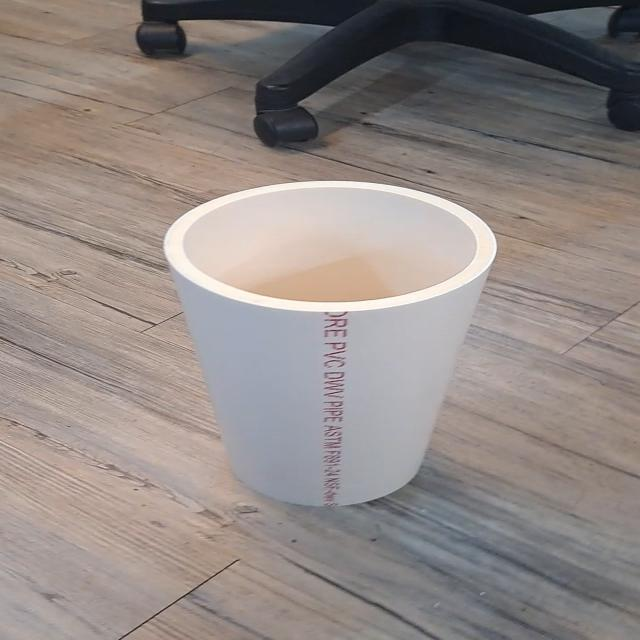CORAL: (113, 169, 559, 518)
